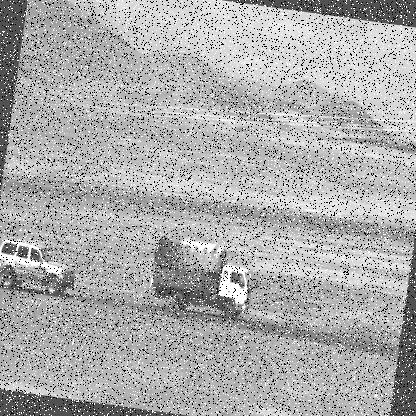Car: (0, 237, 79, 300)
